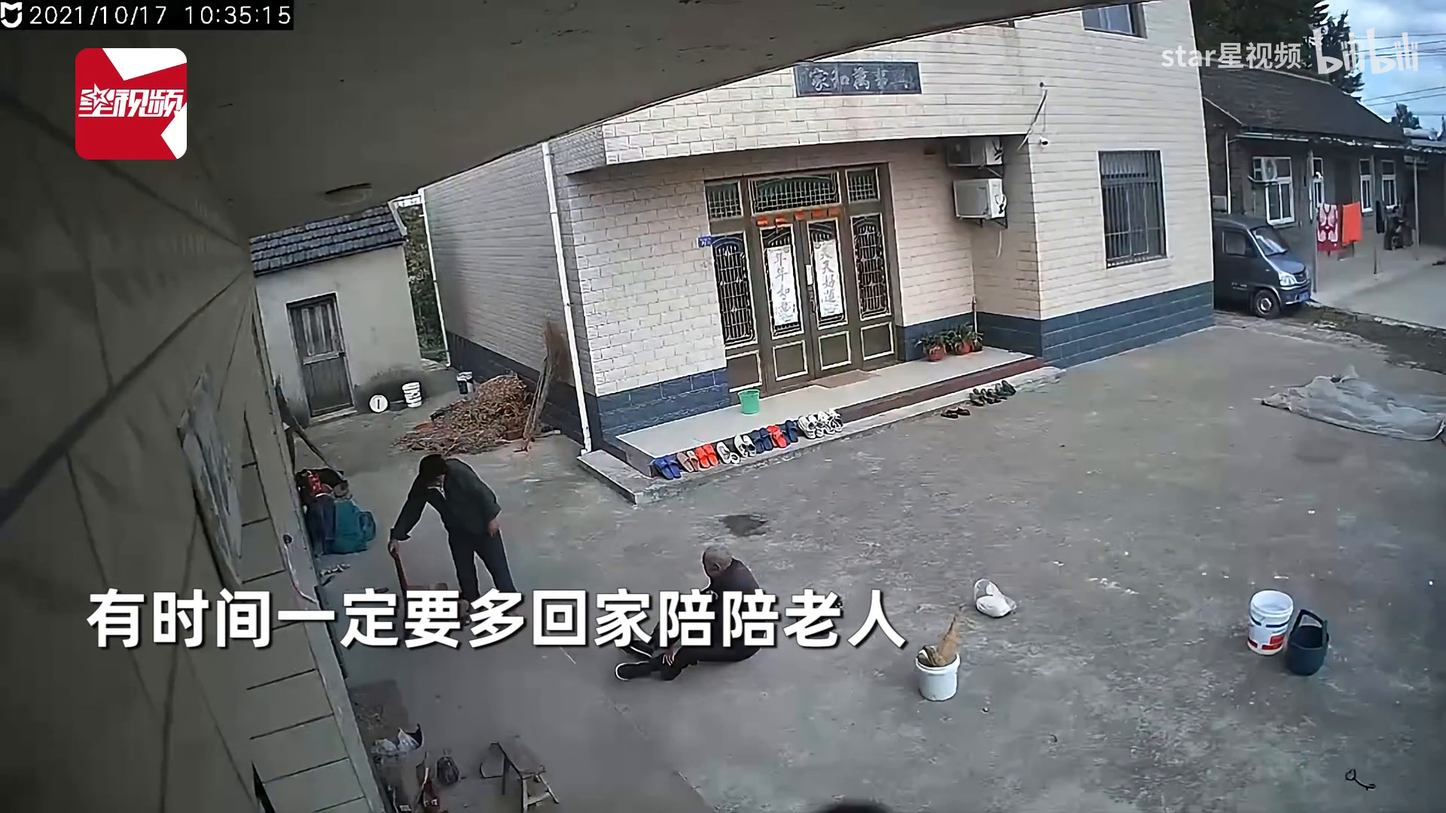bend: (387, 452, 527, 626)
half_up: (618, 544, 769, 678)
